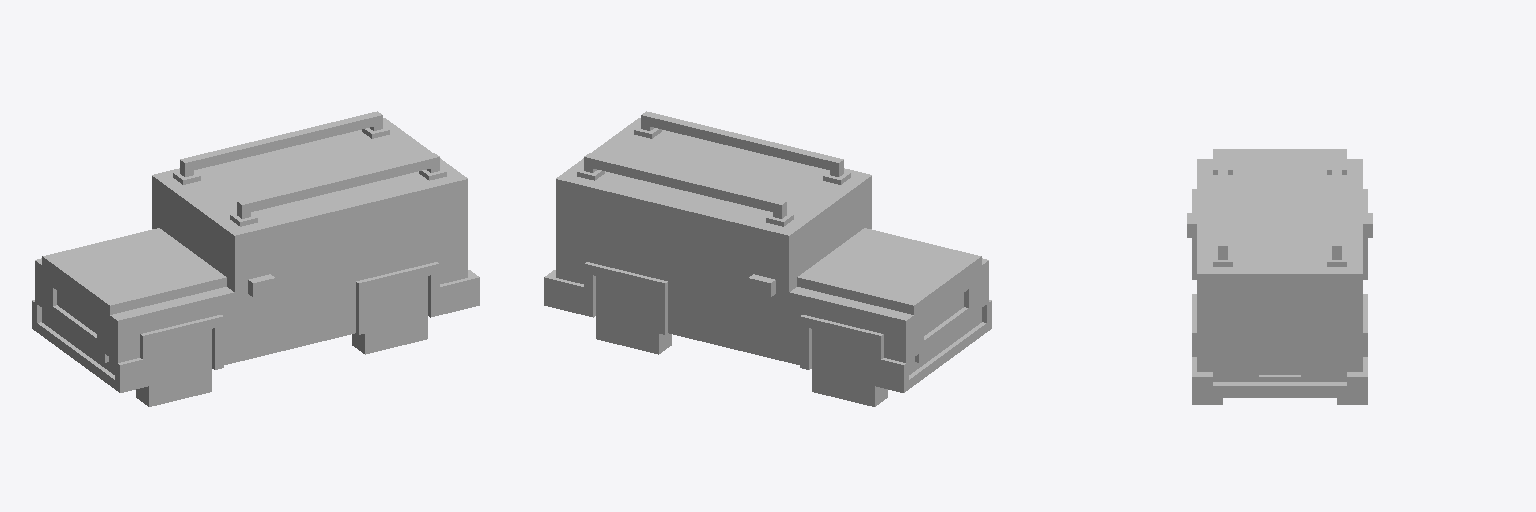
The model's file is alll cars3-89.obj.
3 views of the same model, side by side, from view 1: azimuth 30°, elevation 25°; view 2: azimuth 150°, elevation 25°; view 3: azimuth 270°, elevation 25° (orthographic).
Parts seen in each view (by area): view 1: object 1; view 2: object 1; view 3: object 1.
Part boxes in pixels (x1,y1,x2,y2): object 1: (32, 111, 479, 406); object 1: (544, 111, 991, 406); object 1: (1187, 149, 1372, 404).
Bounding box in the file's own units: 8 × 3.6 × 3.6.